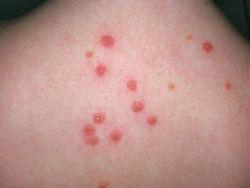Fleas: (83, 124, 98, 144), (92, 62, 108, 78), (107, 127, 123, 143), (124, 77, 140, 92), (164, 79, 178, 93), (101, 35, 114, 47), (202, 40, 214, 53), (93, 112, 104, 123), (131, 101, 143, 111), (146, 115, 157, 125), (224, 82, 234, 93), (86, 51, 92, 58)
